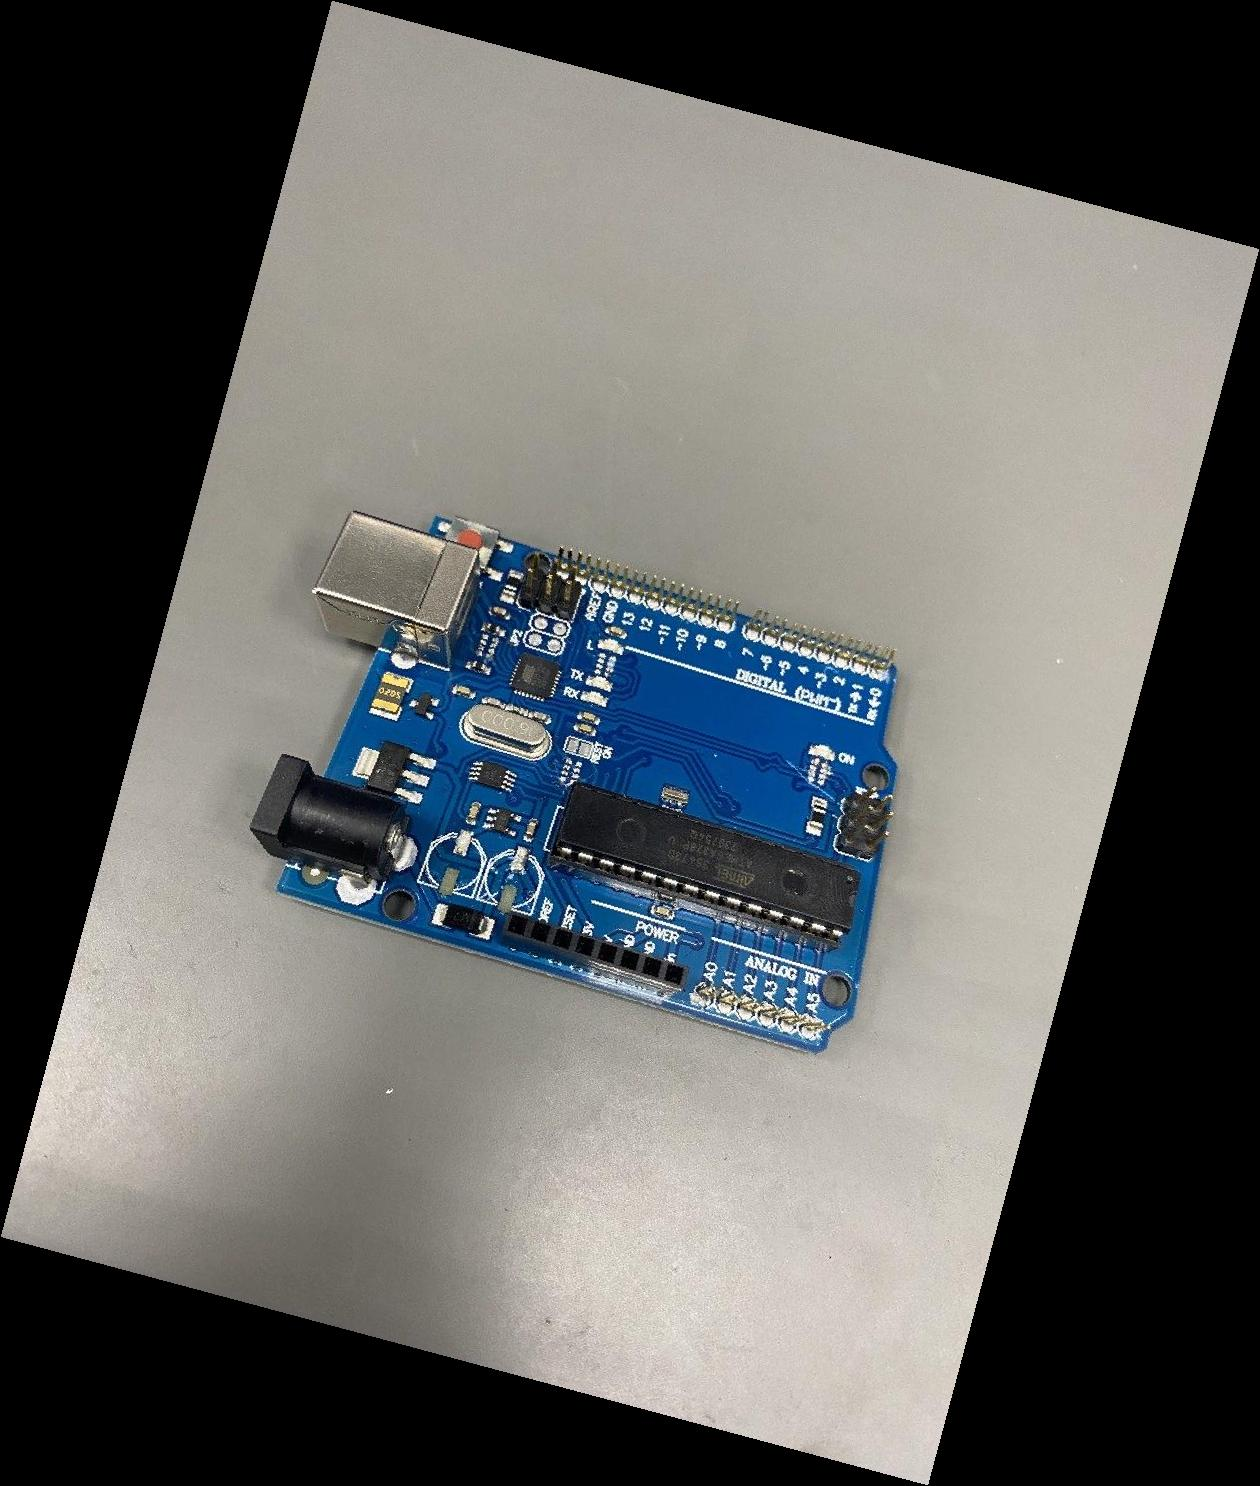ATmega328 chip: (549, 780, 862, 956)
Arduino board: (250, 509, 899, 1055)
USB: (312, 510, 481, 672)
pins: (500, 911, 690, 999)
